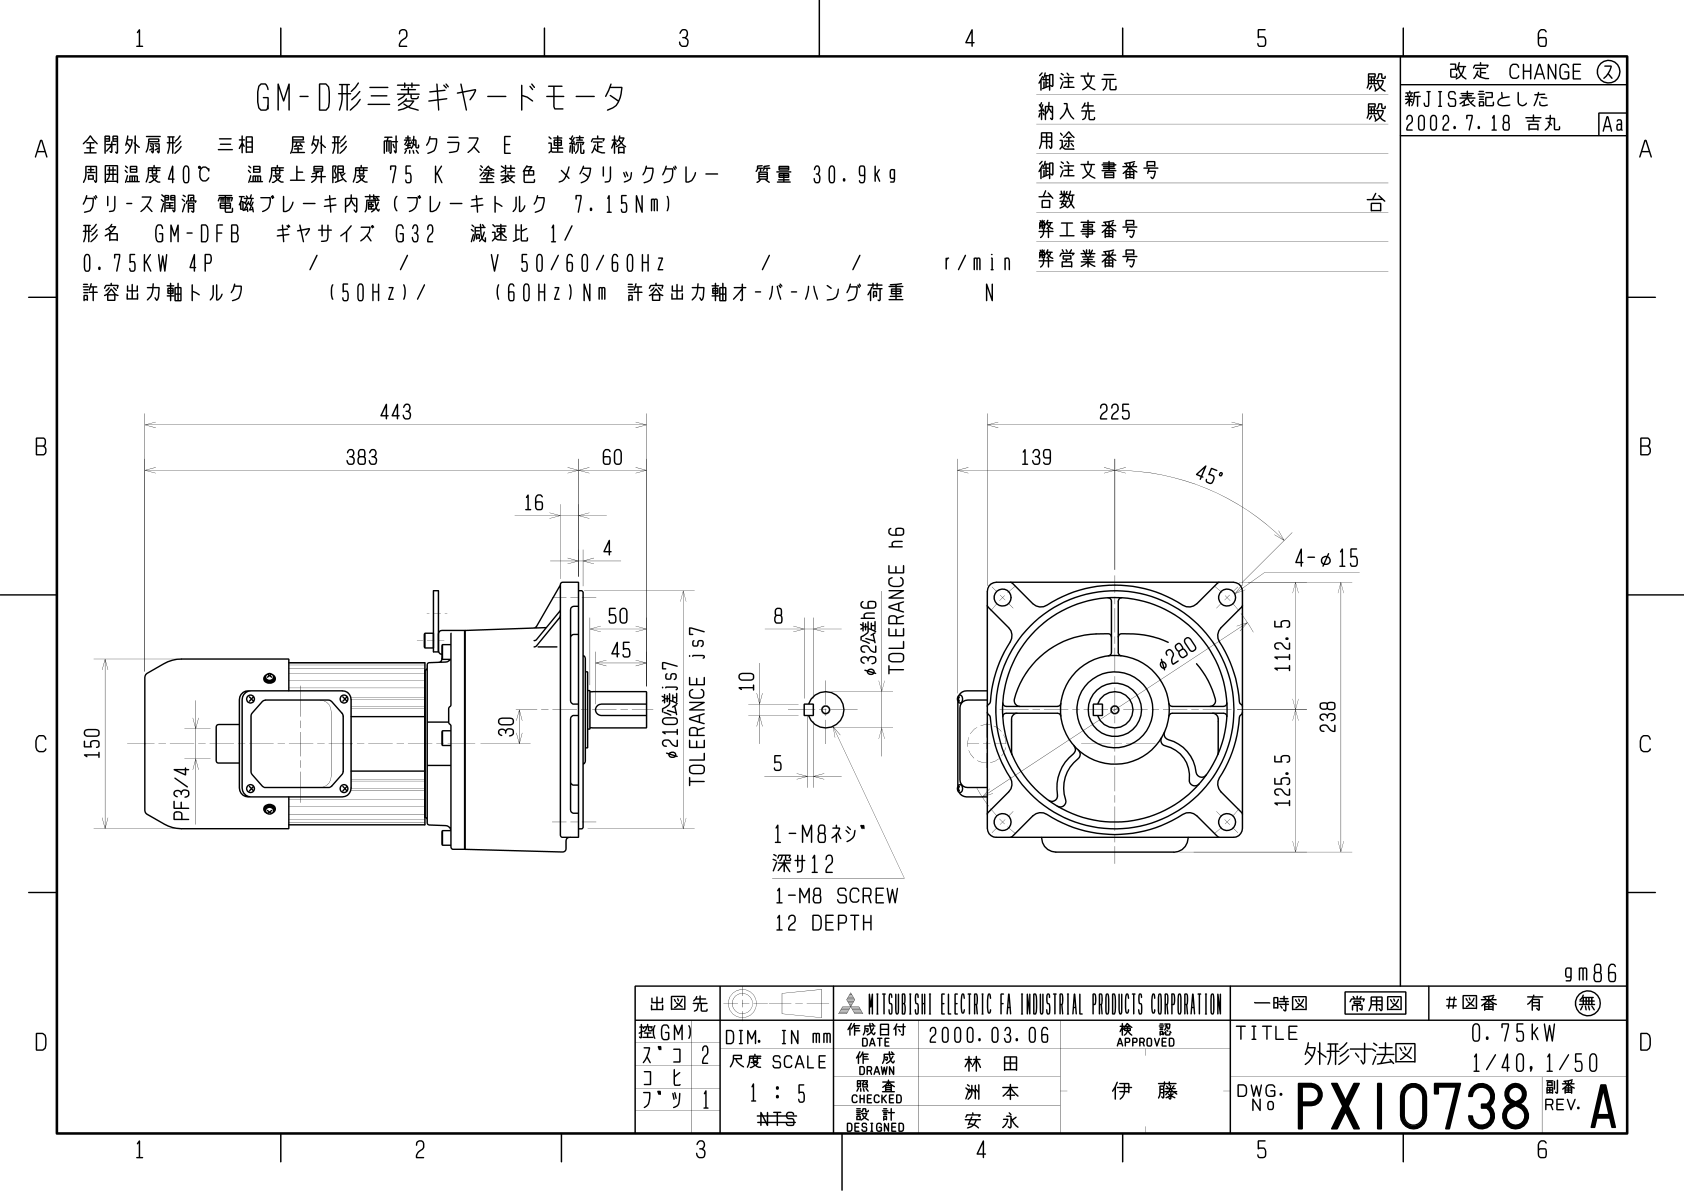GM_D_屋外＿三相_フランジ: (1, 1, 1660, 1183)
